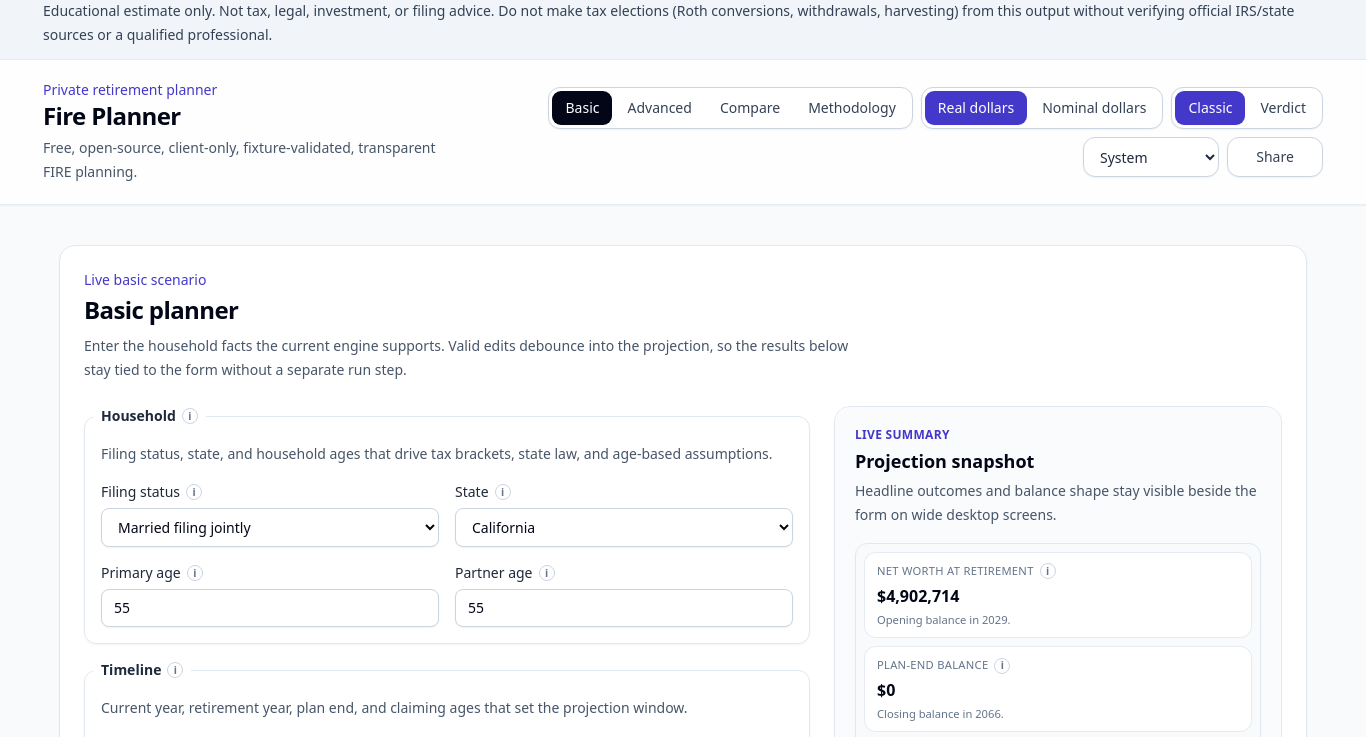
Test case: advanced Gate 4 app flow › renders the custom-law banner only after an explicit saved edit
This screenshot has width=1366, height=737.
Expected: the heading "Basic planner" is shown, 84,293 -> 238,326
Expected: the text "Custom-law scenario active — outputs reflect your edits, not current US tax law." is not shown
Click the button "Advanced".
click(660, 108)  # box 616,92 -> 704,124
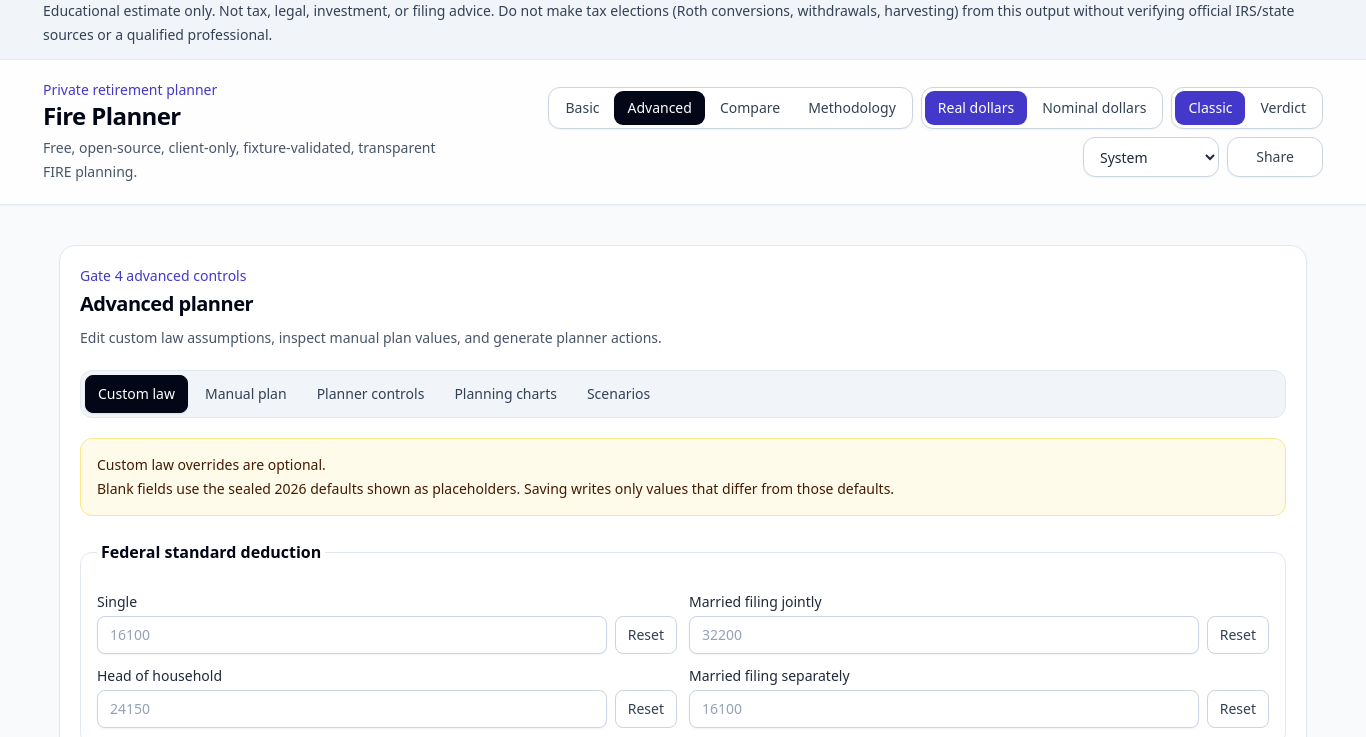
Type "35000" into the number field labelled "Married filing jointly".
click(944, 635); type("35000")  # box 689,616 -> 1199,654
(page scrolled)
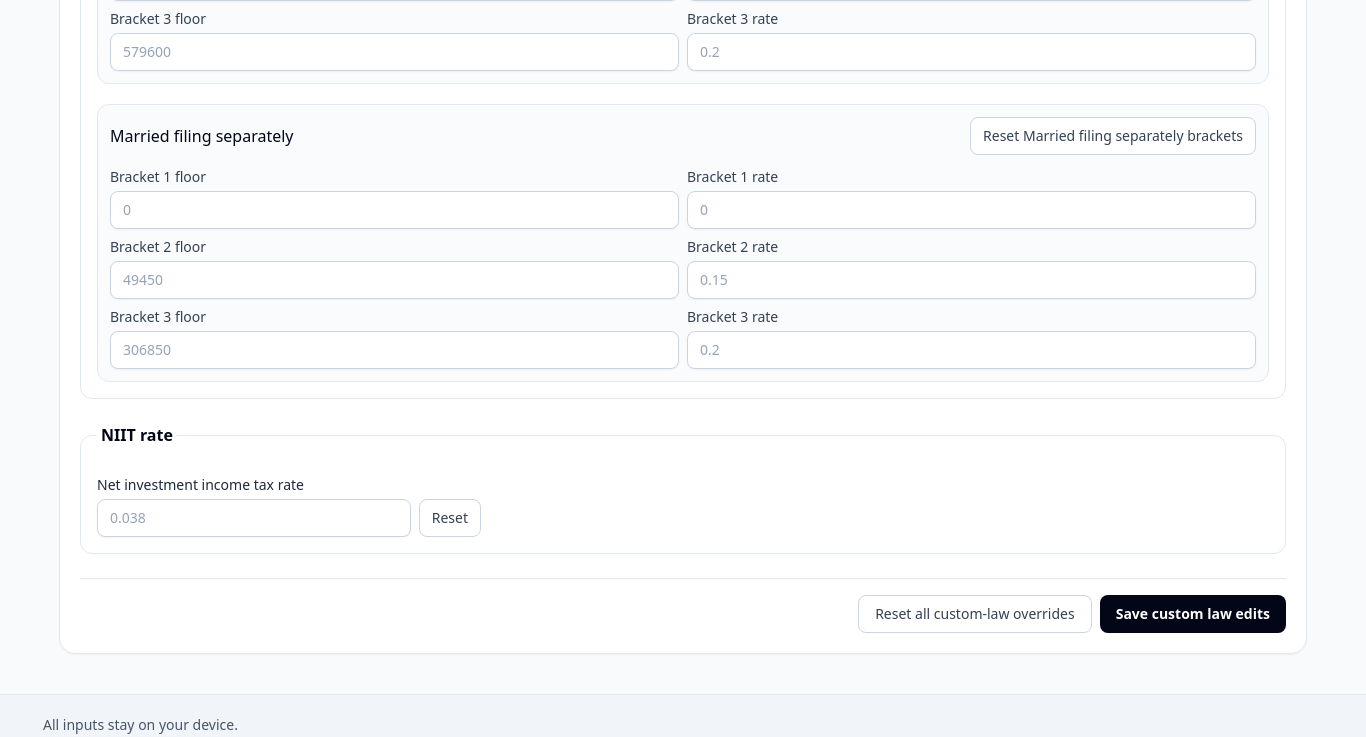
Click the button "Save custom law edits".
click(1193, 614)  # box 1100,595 -> 1286,633
(page scrolled)
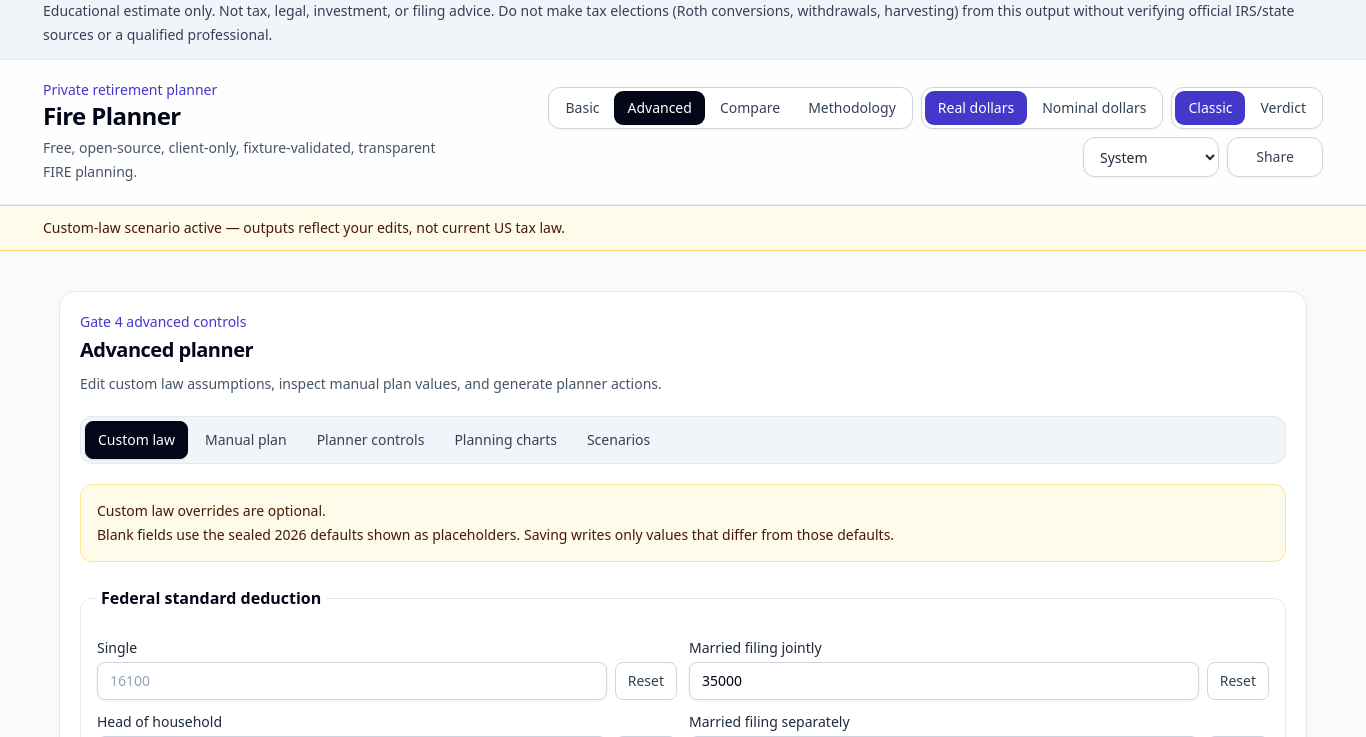
Result: the text "Custom-law scenario active — outputs reflect your edits, not current US tax law." is shown at 43,218 -> 565,237
Click the button "Basic".
click(582, 108)  # box 554,92 -> 612,124
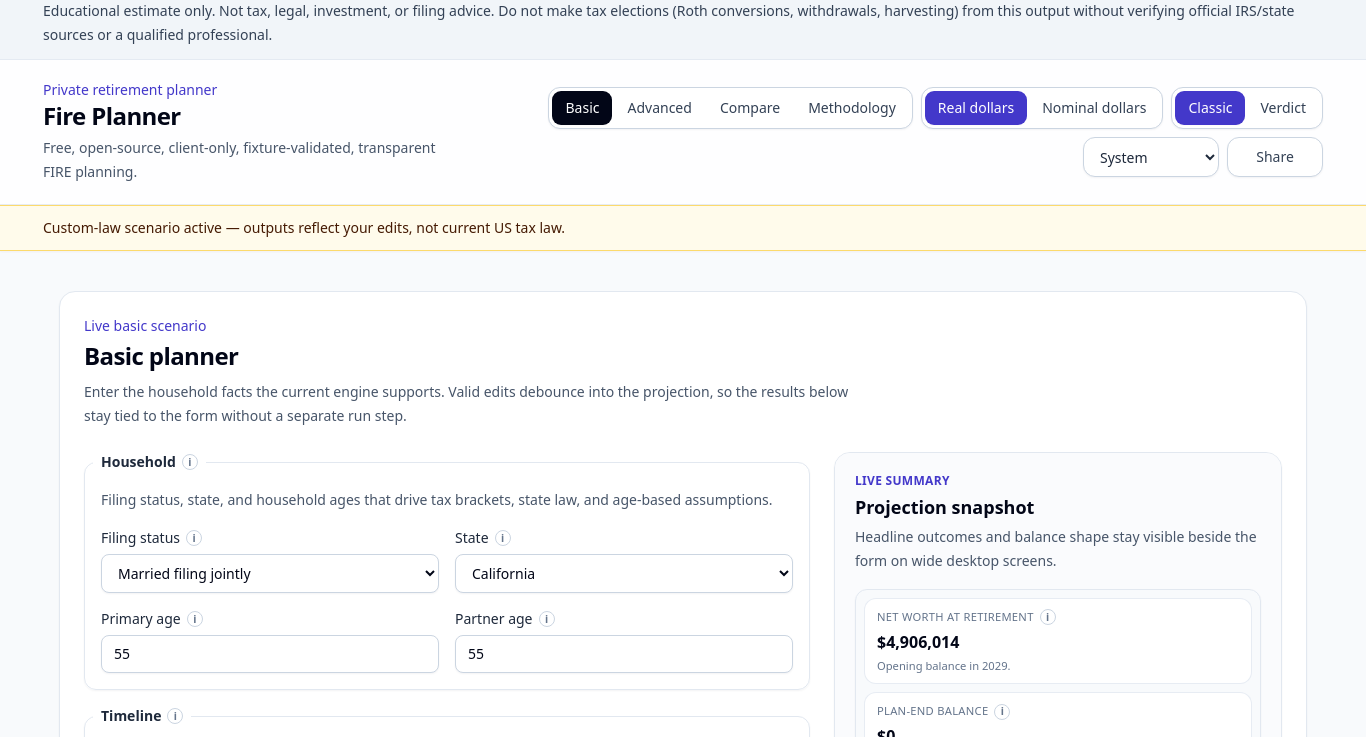
Result: the text "Custom-law scenario active — outputs reflect your edits, not current US tax law." is shown at 43,218 -> 565,237
Result: the heading "Basic planner" is shown at 84,339 -> 238,372
